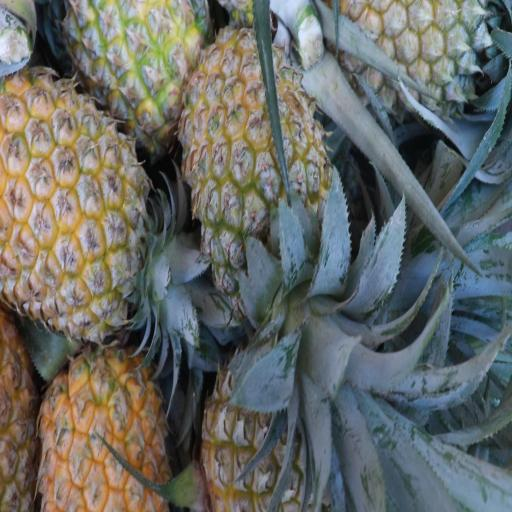------------------------------: (182, 38, 325, 276), (203, 338, 344, 512)
Pineapple - v8 v1: (0, 78, 158, 325), (38, 342, 175, 512), (66, 0, 208, 148)
